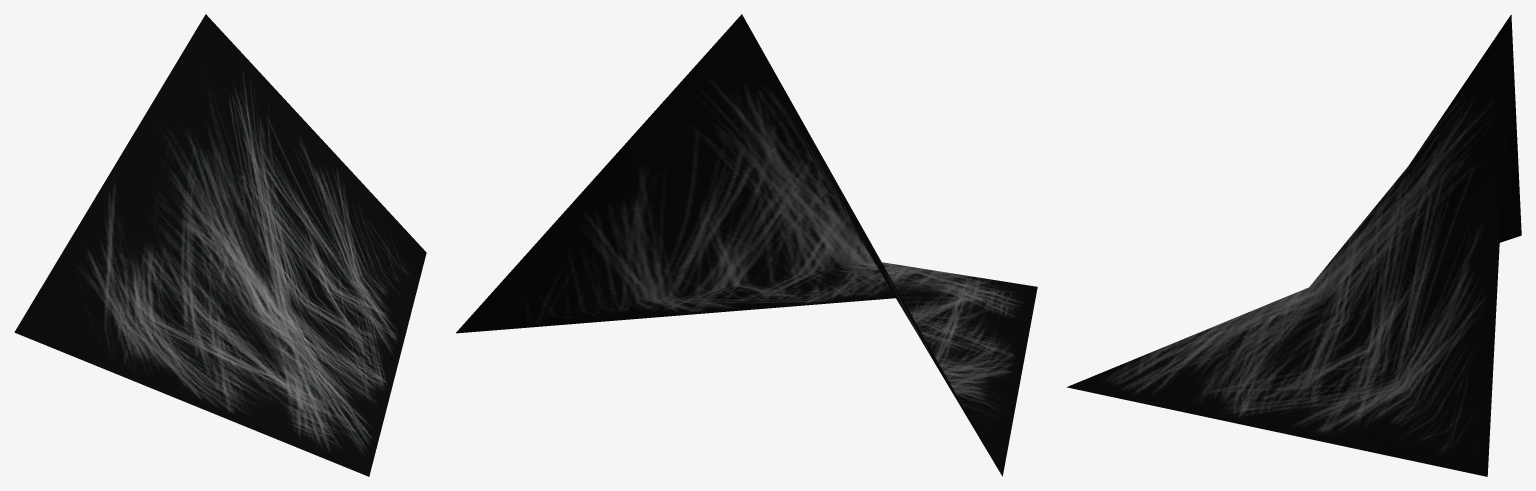
File: EKH_GROTTO_PS_GR_CORNER_WEB__NC06.fbx
3 views of the same model, side by side, from view 1: azimuth 30°, elevation 25°; view 2: azimuth 150°, elevation 25°; view 3: azimuth 270°, elevation 25° (orthographic). The views are drawn at different scales.
Parts seen in each view (by area): view 1: EKH_GROTTO_PS_GR_CORNER_WEB__NC06; view 2: EKH_GROTTO_PS_GR_CORNER_WEB__NC06; view 3: EKH_GROTTO_PS_GR_CORNER_WEB__NC06.
Part boxes in pixels (x1,y1,x2,y2): EKH_GROTTO_PS_GR_CORNER_WEB__NC06: (14,14,426,476); EKH_GROTTO_PS_GR_CORNER_WEB__NC06: (456,14,1037,476); EKH_GROTTO_PS_GR_CORNER_WEB__NC06: (1067,14,1521,476).
Bounding box in the file's own units: 30258 × 23367 × 24978.
1 material, 1 textured.
